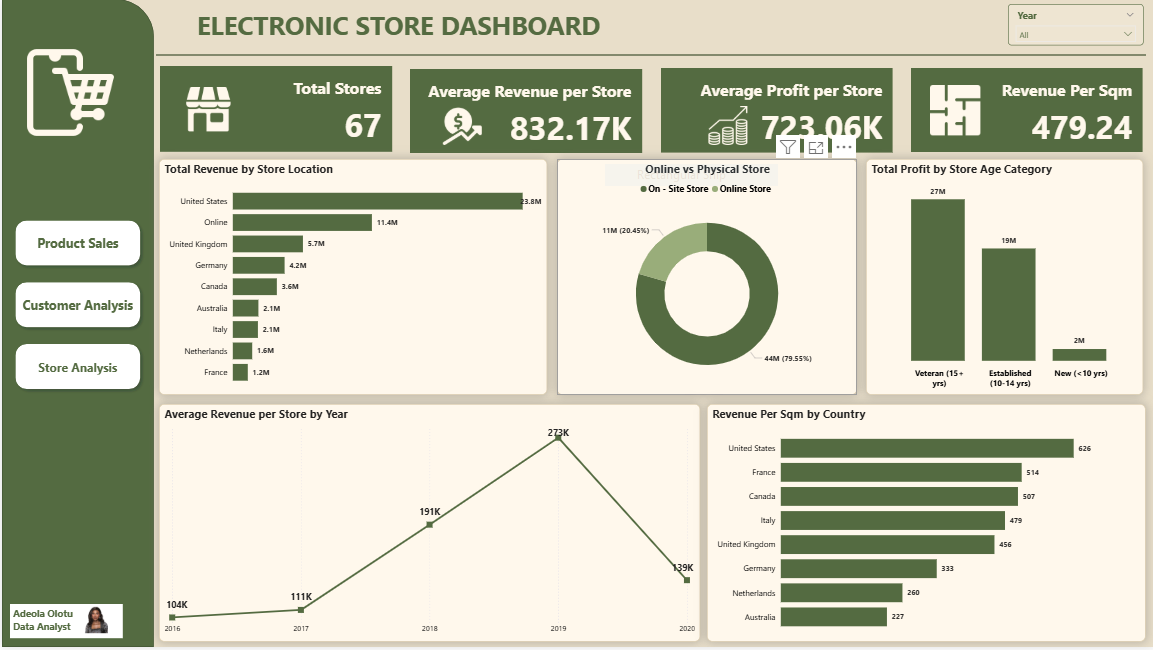

What the dashboard file says about the page in this screenshot:
{"tool":"powerbi","page":{"name":"Store Analysis","canvas":[1920,1080],"ordinal":4},"visuals":[{"type":"cardVisual","fields":{"Data":["Measures (2).Total Stores"]},"box":[262.7,112,386.9,142.5],"z":0},{"type":"cardVisual","fields":{"Data":["Measures (2).Average Revenue per Store"]},"box":[680.3,116.1,386.9,140.5],"z":1000},{"type":"cardVisual","fields":{"Data":["Measures (2).Average Profit per Store"]},"box":[1098,115,386,141],"z":2000},{"type":"slicer","fields":{"Values":["Calendar.Year"]},"box":[1676.5,9,225.6,68.7],"z":4000},{"type":"shape","box":[0,0,253.3,1080],"z":5000},{"type":"textbox","box":[320,8.6,695.7,90],"z":6000},{"type":"shape","box":[256.7,83.3,1650,20],"z":7000},{"type":"image","box":[26.9,62.8,174.8,185.3],"z":8000},{"type":"pageNavigator","box":[13.3,360,226.7,300],"z":10000},{"type":"clusteredBarChart","title":"Total Revenue by Store Location","fields":{"Category":["Stores.Country"],"Y":["Measures (2).Total Revenue"]},"box":[261.7,266.7,646.7,393.3],"z":11000},{"type":"donutChart","title":"Online vs Physical Store","fields":{"Category":["Stores.Store Location"],"Y":["Measures (2).Total Revenue"]},"box":[925,266.7,500,393.3],"z":12000},{"type":"columnChart","fields":{"Category":["Stores.Store Age Category"],"Y":["Measures (2).Total Profit"]},"box":[1440,266.7,461.7,393.3],"z":13000},{"type":"lineChart","fields":{"Category":["Calendar.Year"],"Y":["Measures (2).Average Revenue per Store"]},"box":[261.4,674.7,901.9,396.3],"z":14000},{"type":"clusteredBarChart","fields":{"Category":["Stores.Country"],"Y":["Measures (2).Revenue Per Sqm"]},"box":[1175.2,674.7,731.1,396.3],"z":15000},{"type":"cardVisual","fields":{"Data":["Measures (2).Revenue Per Sqm"]},"box":[1514.8,114.5,386,140.5],"z":16001},{"type":"image","box":[300.6,141.8,87.1,83.7],"z":16002},{"type":"image","box":[1541.3,138.5,93.7,93.7],"z":16003},{"type":"image","box":[726.9,173.1,81.4,75.3],"z":16004},{"type":"image","box":[1162.6,173.1,93.7,75.3],"z":16005},{"type":"textbox","box":[13.3,1008.3,188.3,56.7],"z":16006},{"type":"image","box":[101.7,1005,103.3,56.7],"z":16007}]}

Visuals, with their boxes in screenshot pixels (x1, y1, x2, y2), scaled from the page's 1920x1080 canvas onto the 1153x650 screenshot:
cardVisual - Measures (2).Total Stores: 158 67 390 153
cardVisual - Measures (2).Average Revenue per Store: 409 70 641 154
cardVisual - Measures (2).Average Profit per Store: 659 69 891 154
slicer - Calendar.Year: 1007 5 1142 47
shape: 0 0 152 649
textbox: 192 5 610 59
shape: 154 50 1145 62
image: 16 38 121 149
pageNavigator: 8 217 144 397
"Total Revenue by Store Location" clusteredBarChart: 157 161 546 397
"Online vs Physical Store" donutChart: 555 161 856 397
columnChart - Stores.Store Age Category x Measures (2).Total Profit: 865 161 1142 397
lineChart - Calendar.Year x Measures (2).Average Revenue per Store: 157 406 699 645
clusteredBarChart - Stores.Country x Measures (2).Revenue Per Sqm: 706 406 1145 645
cardVisual - Measures (2).Revenue Per Sqm: 910 69 1141 153
image: 181 85 233 136
image: 926 83 982 140
image: 437 104 485 150
image: 698 104 754 150
textbox: 8 607 121 641
image: 61 605 123 639
